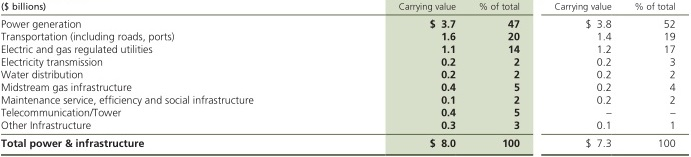column: (1, 2, 254, 156), (399, 1, 456, 157), (555, 1, 612, 157), (480, 1, 520, 156), (635, 1, 675, 156)
row: (1, 32, 691, 43), (1, 19, 690, 30), (1, 2, 691, 12), (1, 45, 691, 55)
